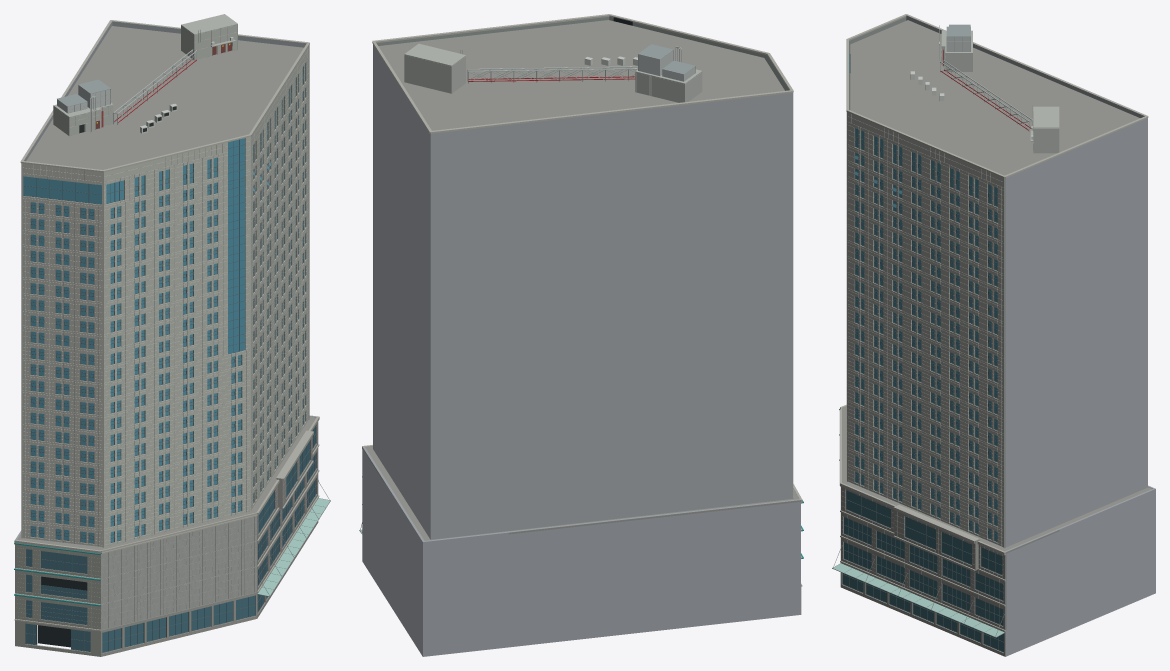
Rendered from detail.glb.
3 views of the same model, side by side, from view 1: azimuth 30°, elevation 25°; view 2: azimuth 150°, elevation 25°; view 3: azimuth 270°, elevation 25° (orthographic). The views are drawn at different scales.
Visible parts, largest first — view 1: LEFT_RETURN stone panels, Podium roof ledge plate, LEFT_RETURN glazing 0, LEFT_RETURN window aluminium and transoms, PODIUM_0 panel walls, PODIUM_0 glazing, PODIUM_0 floor cornices, STREET_CORNER blue band, PODIUM_0 mullions, S02 chamfer fine stone panels 1, S05 left service shell with front omissions, S02 chamfer fine stone panels 0 (+10 smaller); view 2: REAR_UNSEEN neutral closure NO FENESTRATION, Podium roof ledge plate, S05 left service shell with front omissions, PODIUM_0 floor cornices, LEFT_RETURN aperture wall substrate, S05 left tall silver envelope, S05 left tall silver raised grid; view 3: REAR_UNSEEN neutral closure NO FENESTRATION, LEFT_RETURN stone panels, Podium roof ledge plate, LEFT_RETURN glazing 0, LEFT_RETURN window aluminium and transoms, PODIUM_0 glazing, PODIUM_0 panel walls, PODIUM_0 floor cornices, PODIUM_0 mullions, S05 left service shell with front omissions, LEFT_RETURN aperture wall substrate, S03 continuous transparent long canopy panels (+3 smaller).
Part boxes in pixels (x1,y1,x2,y2): LEFT_RETURN stone panels: (21, 45, 309, 547); Podium roof ledge plate: (17, 26, 316, 550); LEFT_RETURN glazing 0: (23, 64, 305, 543); LEFT_RETURN window aluminium and transoms: (23, 63, 305, 543); PODIUM_0 panel walls: (15, 422, 318, 656); PODIUM_0 glazing: (26, 426, 315, 652); PODIUM_0 floor cornices: (14, 20, 319, 631); STREET_CORNER blue band: (228, 138, 244, 353); PODIUM_0 mullions: (25, 425, 316, 652); S02 chamfer fine stone panels 1: (101, 517, 256, 628); S05 left service shell with front omissions: (53, 14, 237, 136); S02 chamfer fine stone panels 0: (101, 519, 256, 629); REAR_UNSEEN neutral closure NO FENESTRATION: (362, 44, 800, 656); Podium roof ledge plate: (362, 20, 800, 540); S05 left service shell with front omissions: (404, 43, 702, 102); PODIUM_0 floor cornices: (362, 14, 802, 586); LEFT_RETURN aperture wall substrate: (362, 17, 788, 533); S05 left tall silver envelope: (460, 46, 695, 81); S05 left tall silver raised grid: (467, 44, 695, 83); REAR_UNSEEN neutral closure NO FENESTRATION: (906, 16, 1155, 656); LEFT_RETURN stone panels: (846, 112, 1004, 547); Podium roof ledge plate: (842, 20, 1151, 553); LEFT_RETURN glazing 0: (849, 53, 997, 541); LEFT_RETURN window aluminium and transoms: (854, 128, 997, 542); PODIUM_0 glazing: (842, 490, 1003, 651); PODIUM_0 panel walls: (840, 486, 1005, 656); PODIUM_0 floor cornices: (839, 14, 1148, 631); PODIUM_0 mullions: (842, 490, 1003, 652); S05 left service shell with front omissions: (941, 30, 1059, 153); LEFT_RETURN aperture wall substrate: (849, 17, 1006, 630); S03 continuous transparent long canopy panels: (833, 563, 1004, 636).
Bounding box in the file's own units: 78.95 × 107 × 61.78.
31 materials, 5 textured.
